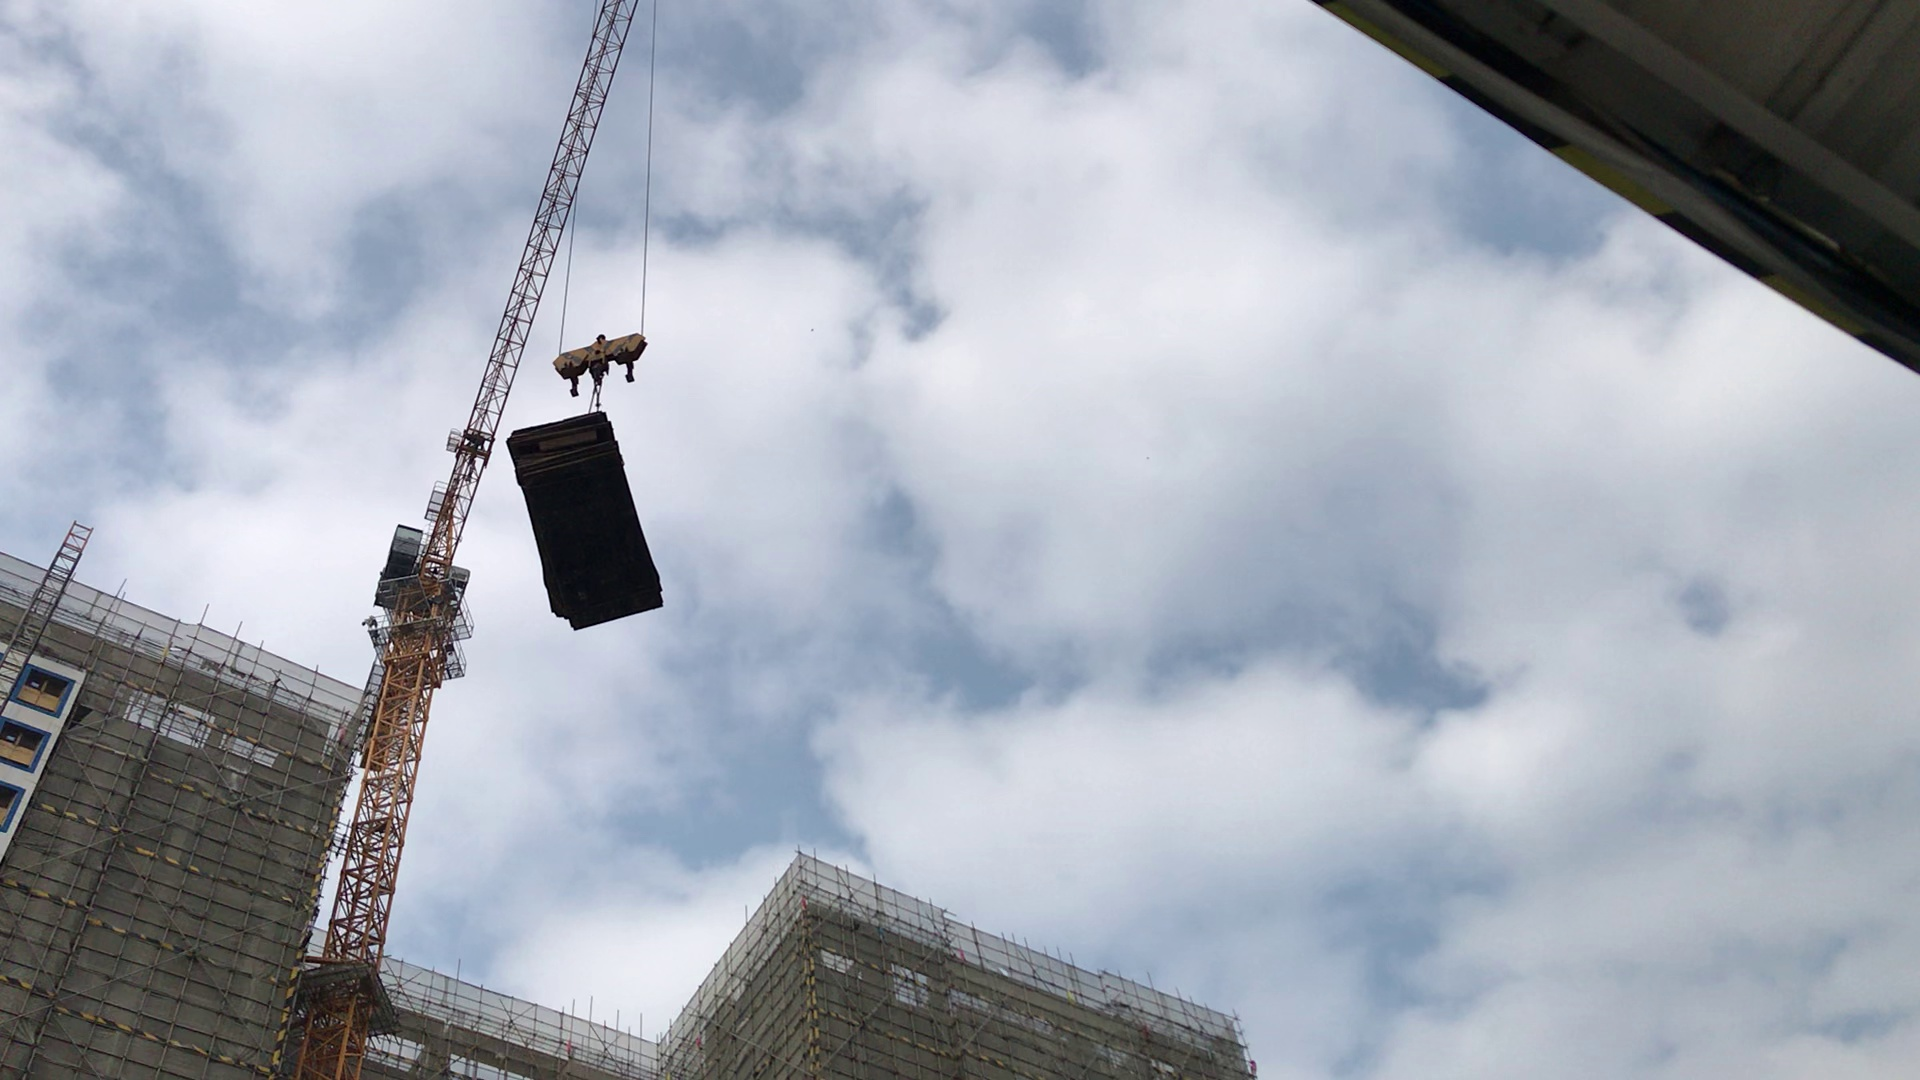board: (502, 411, 670, 642)
hook: (553, 330, 647, 397)
